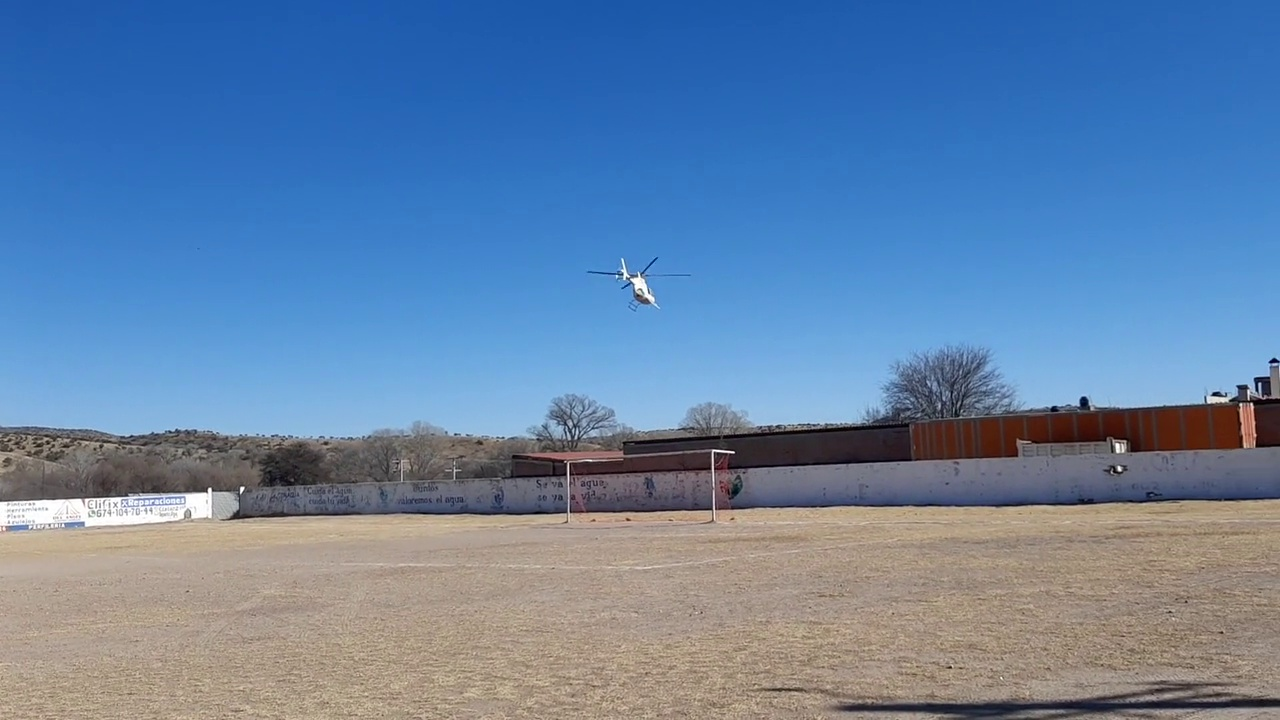heli: (586, 255, 691, 311)
